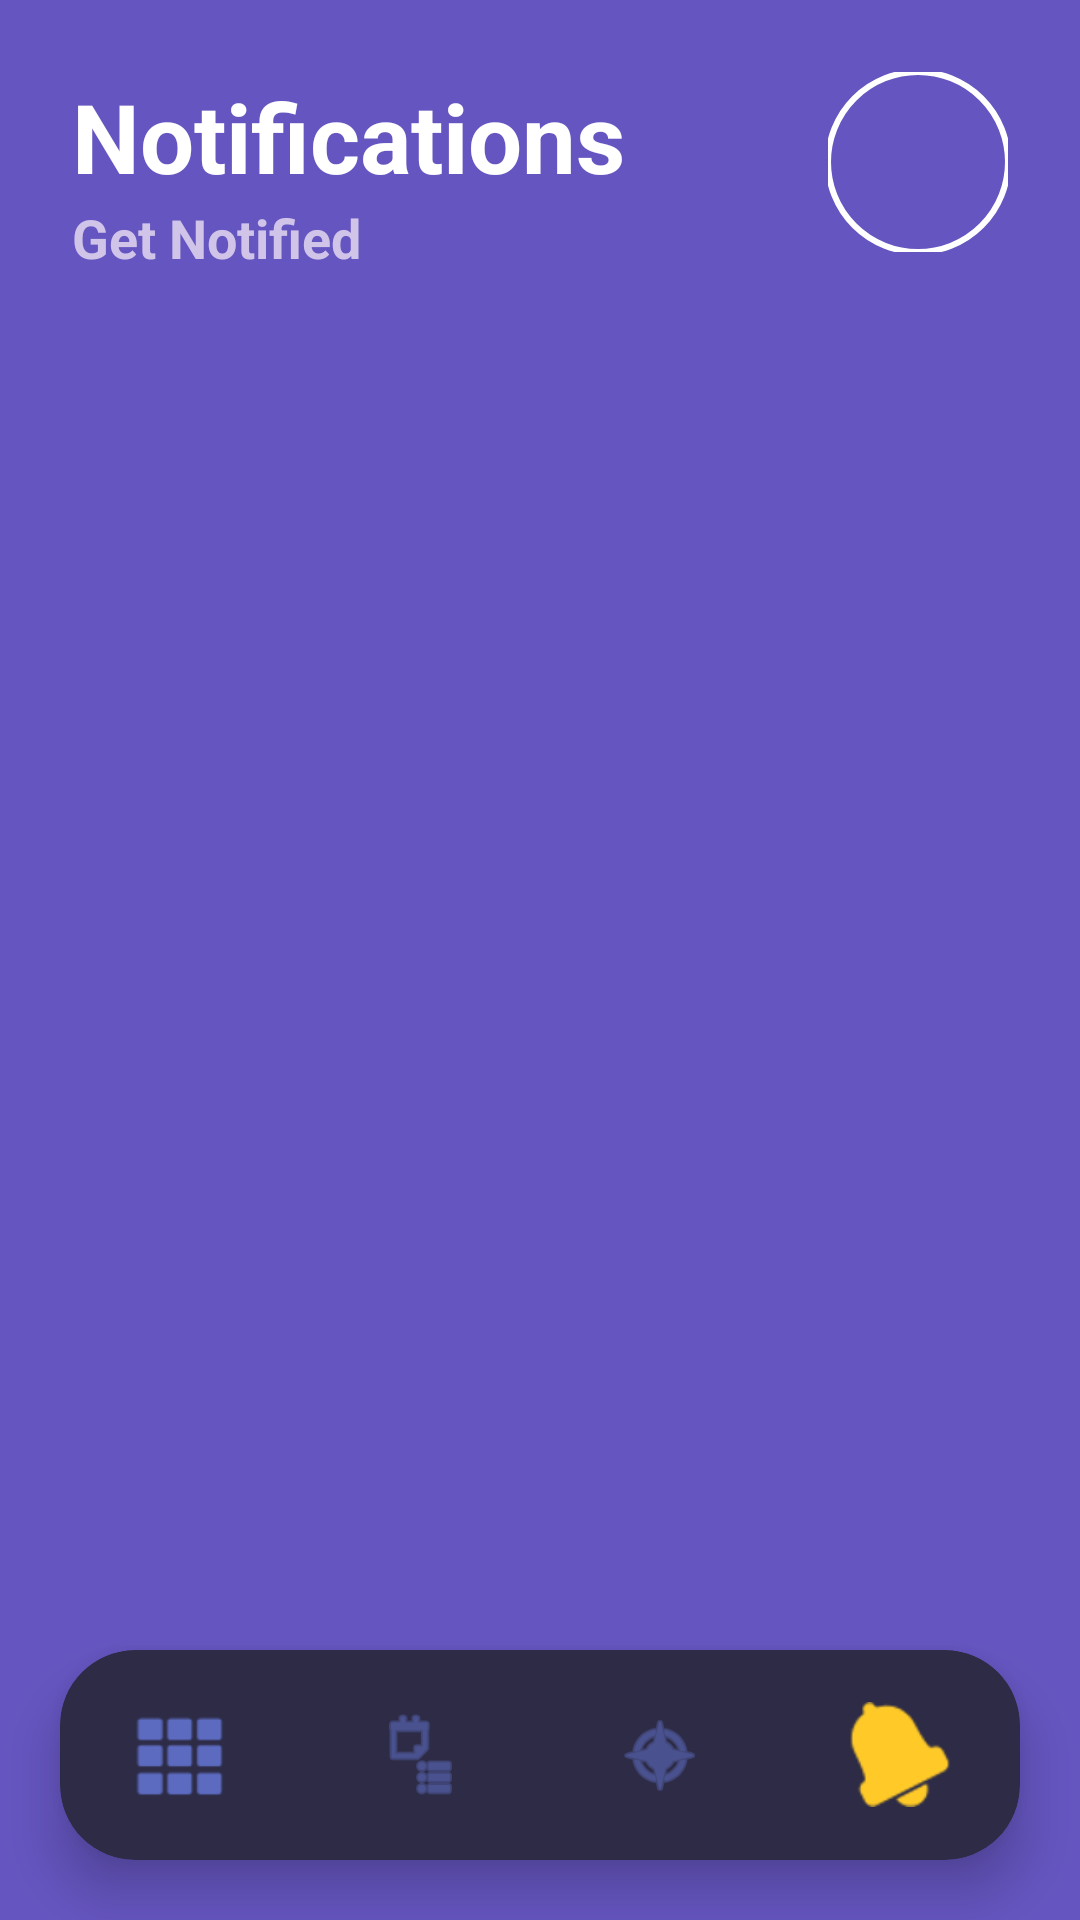

Where to tap for icons on this 1080w x 1920h app screen, as (x=x, y=y):
agenda: (x=420, y=1754)
compass: (x=659, y=1755)
dialer: (x=179, y=1756)
popup reminder: (x=900, y=1754)
